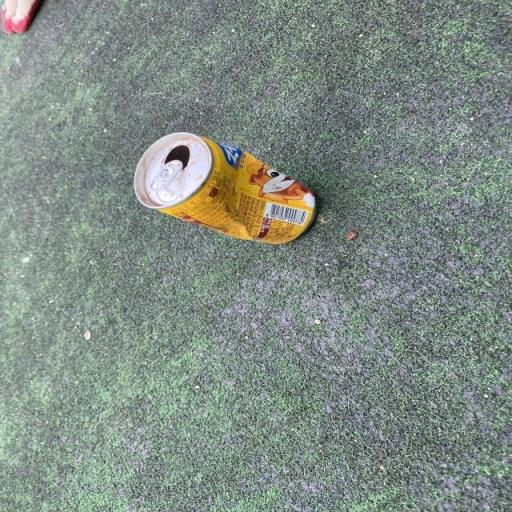metal: (104, 116, 341, 260)
